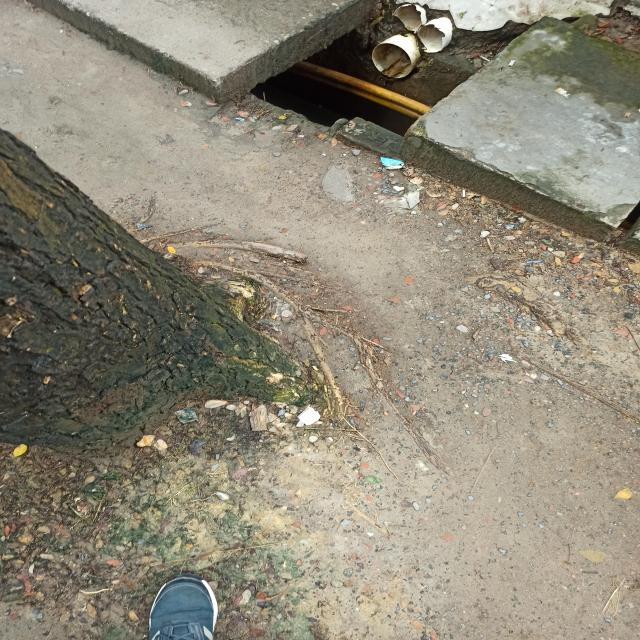drain_inlet: (212, 0, 551, 140)
